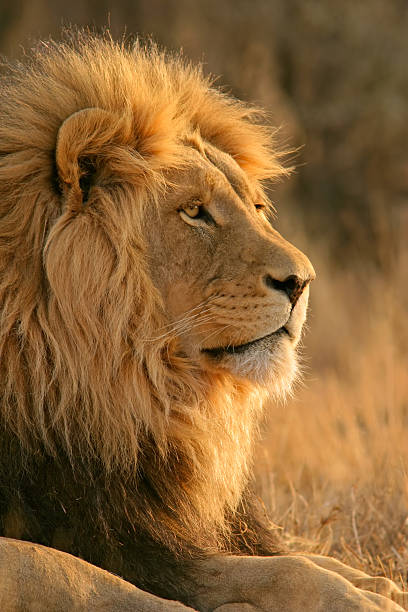lion: (4, 14, 341, 598)
